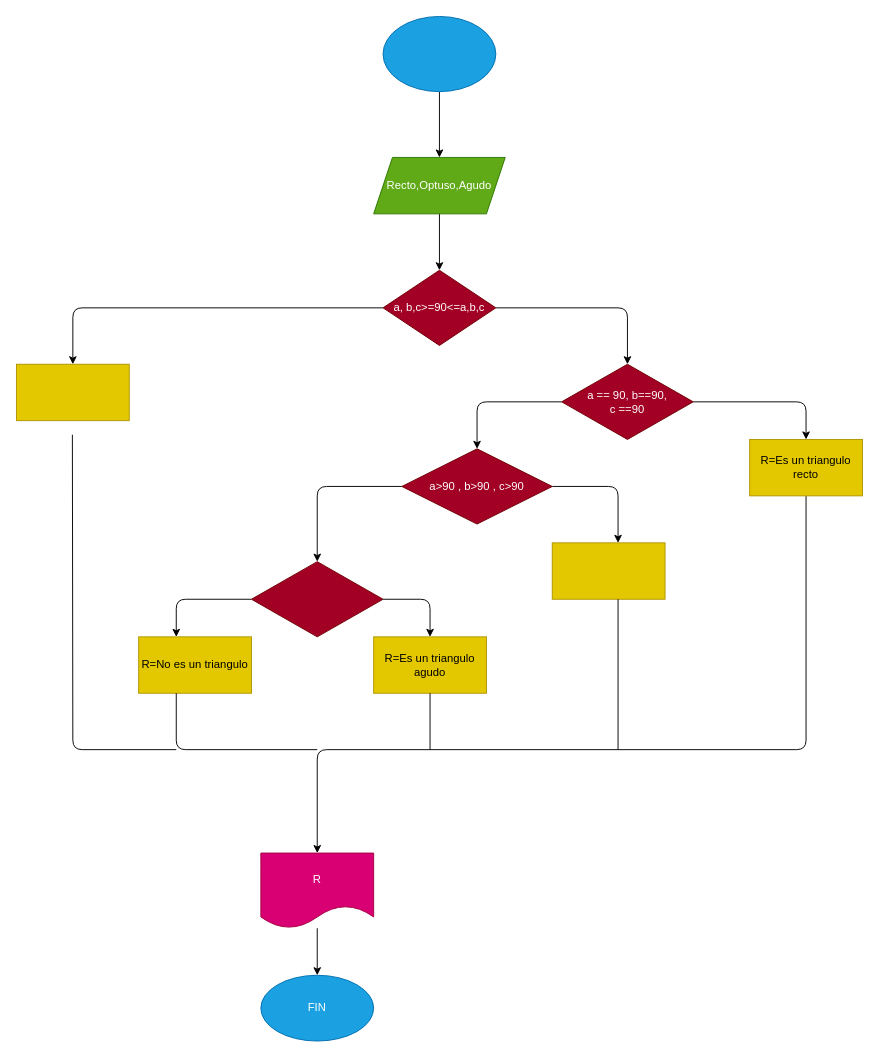
This 879x1058 diagram has some shape labels left out. The shapes that lost their labels are listed below. From the top down, each one's box as (x1, y1, x2, y2) in pixels, then its label:
(382, 16, 496, 92): INICIO
(16, 363, 129, 421): No es un triangulo
(551, 542, 665, 599): R=Es un triangulo obtuso
(251, 561, 383, 637): a<90 , b<90 , c<90
